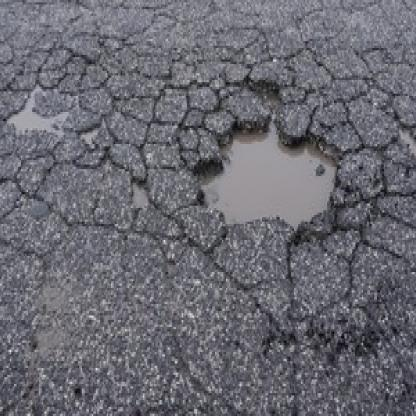pothole: (194, 78, 341, 235), (9, 87, 67, 139)
